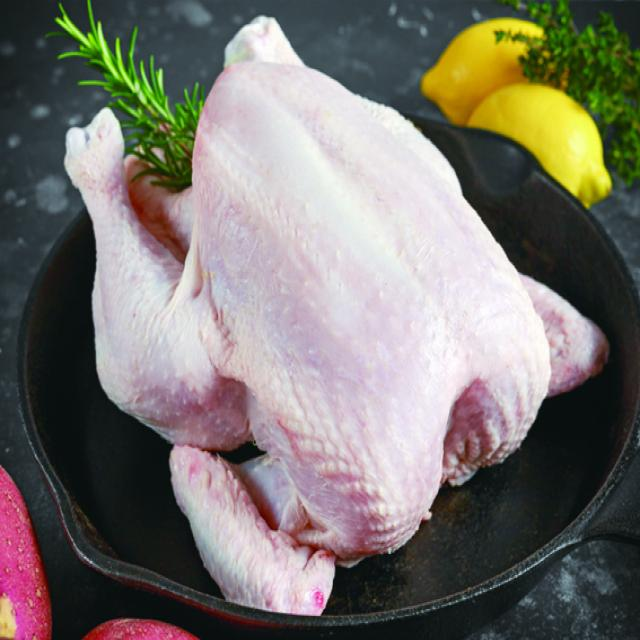chicken: (63, 7, 606, 619)
